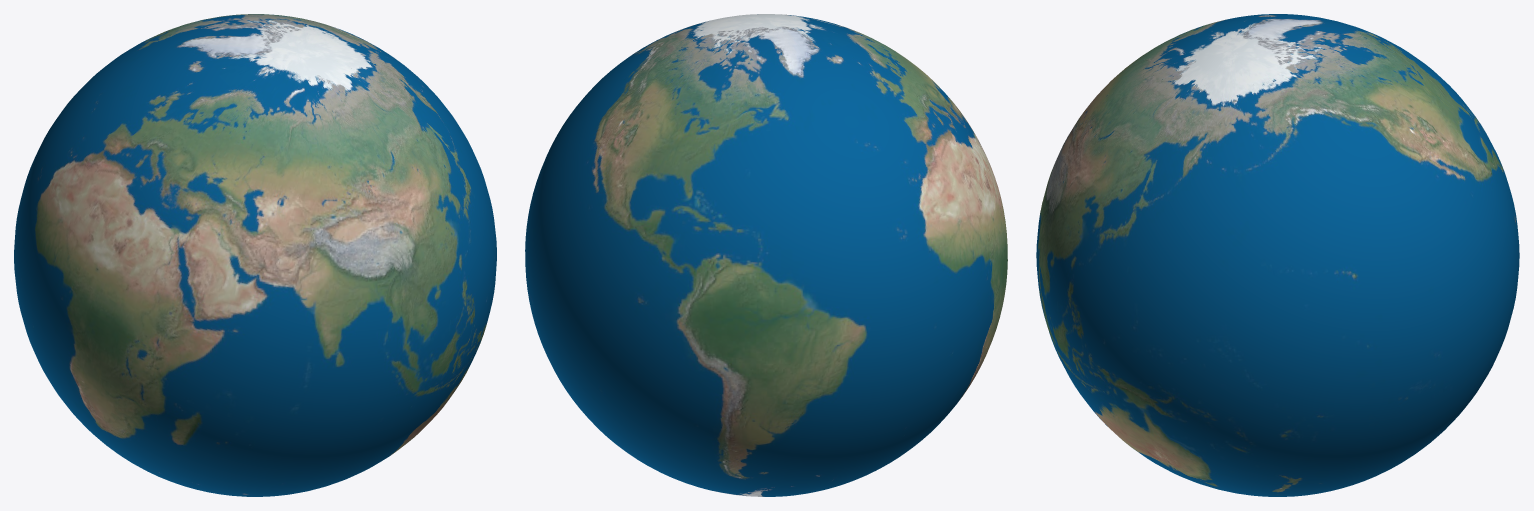
File: globe.gltf
3 views of the same model, side by side, from view 1: azimuth 30°, elevation 25°; view 2: azimuth 150°, elevation 25°; view 3: azimuth 270°, elevation 25° (orthographic).
Parts seen in each view (by area): view 1: Sphere; view 2: Sphere; view 3: Sphere.
Part boxes in pixels (bbox=[...]): Sphere: bbox=[14, 14, 496, 496]; Sphere: bbox=[525, 14, 1007, 496]; Sphere: bbox=[1036, 14, 1519, 496].
Bounding box in the file's own units: 15.51 × 15.51 × 15.51.
Materials: 1 (1 with a texture image).
